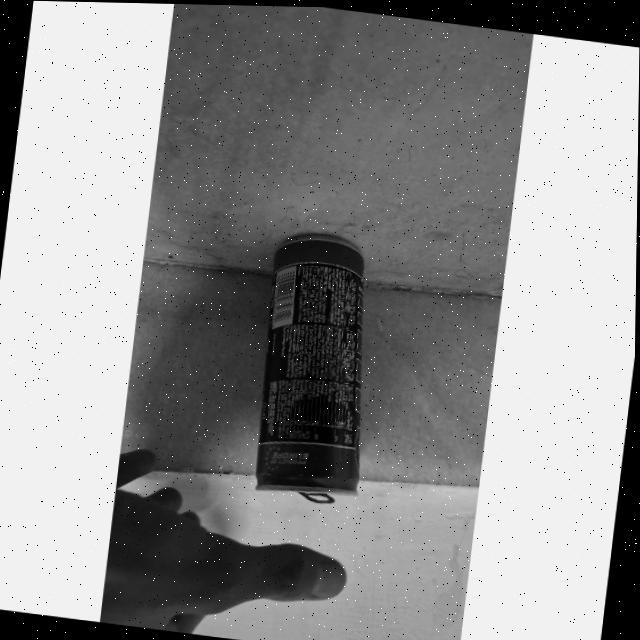Hell Apple: (209, 203, 401, 520)
